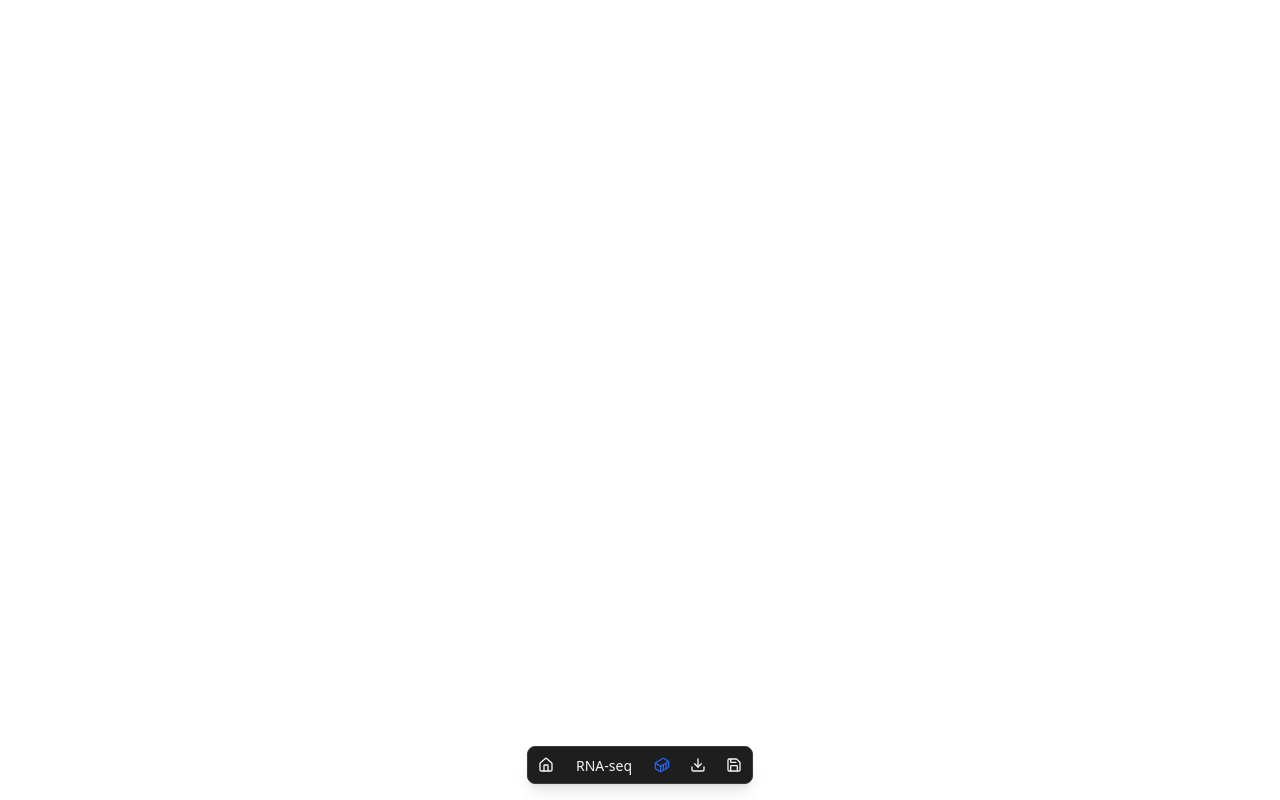
BottomBar › settings dialog › summarises the settings
The image size is (1280, 800).
Click the button named "Execution Settings". click: click(662, 765)
box: [648,751,676,779]
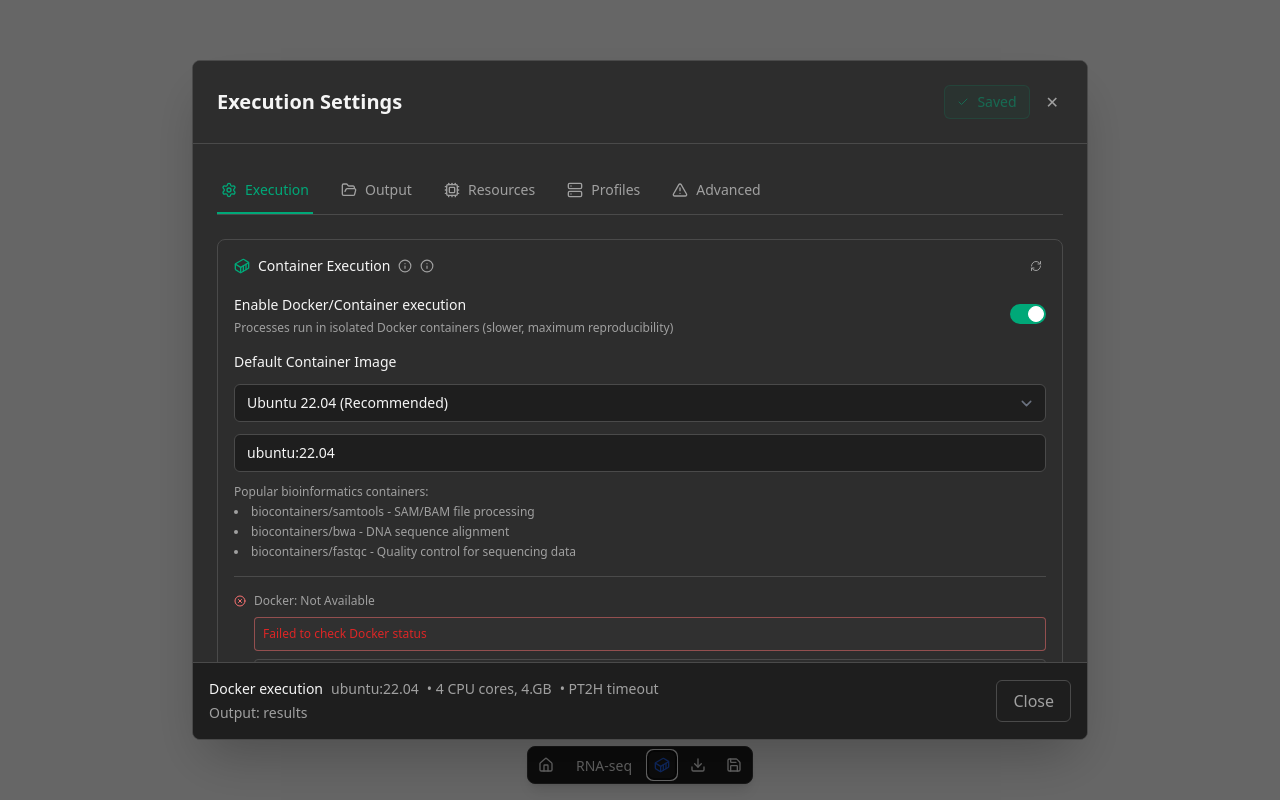
Expected: the heading "Execution Settings" is shown, [217,88,402,116]
Expected: the text "Docker execution" is shown, [209,679,323,698]
Expected: the text "ubuntu:22.04" is shown, [331,679,419,698]
